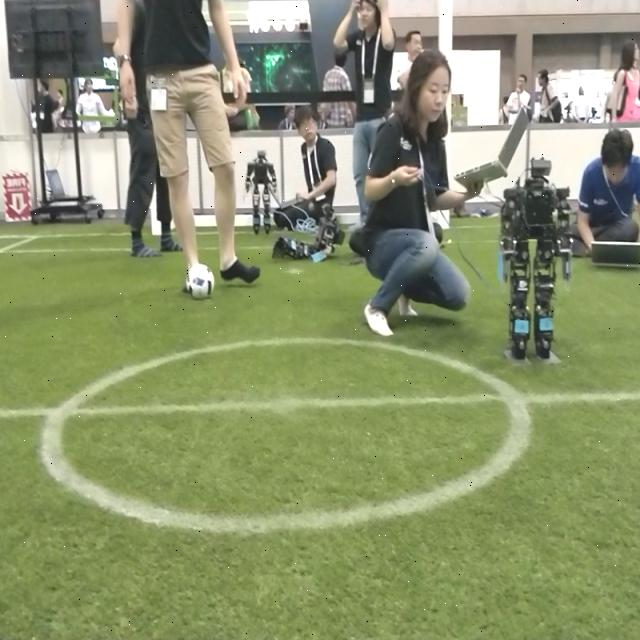ball: (186, 263, 214, 301)
goalpost: (150, 186, 162, 236), (440, 209, 453, 227)
